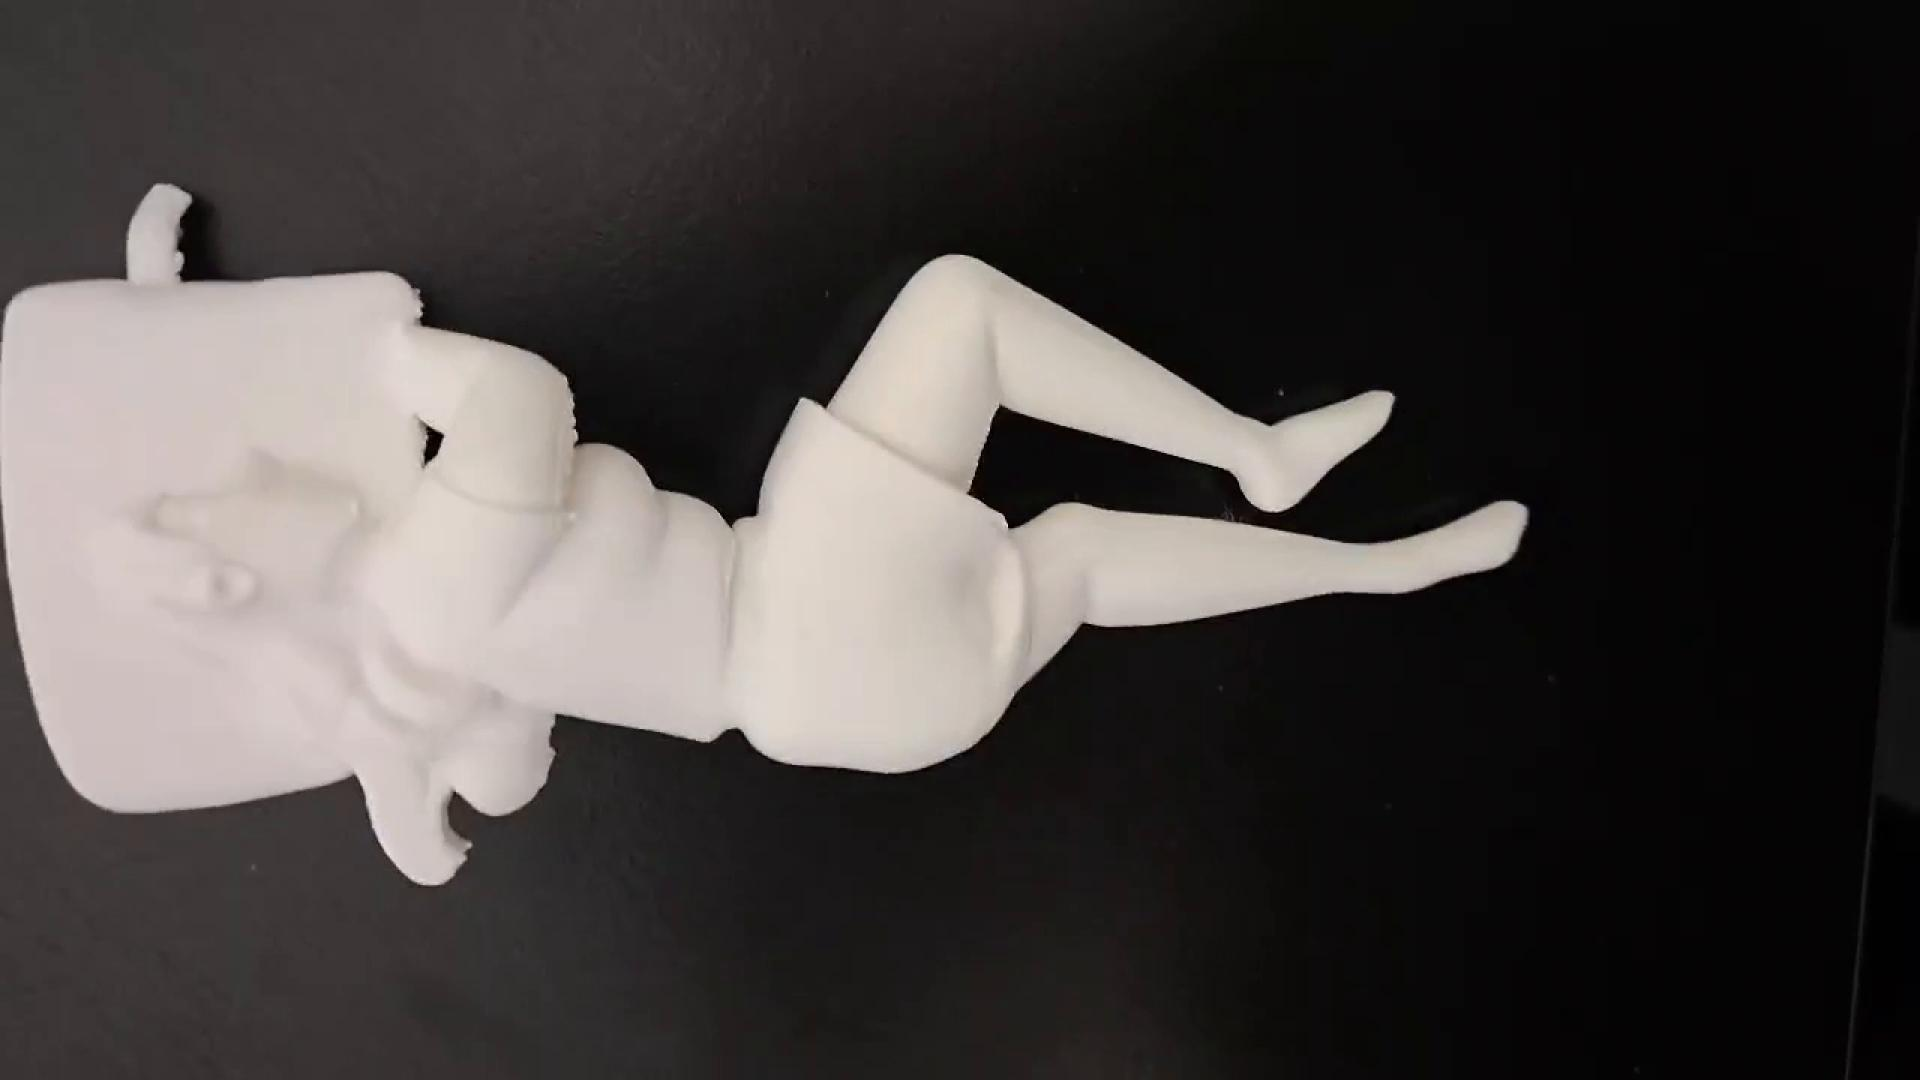Good-style: (0, 167, 1545, 887)
